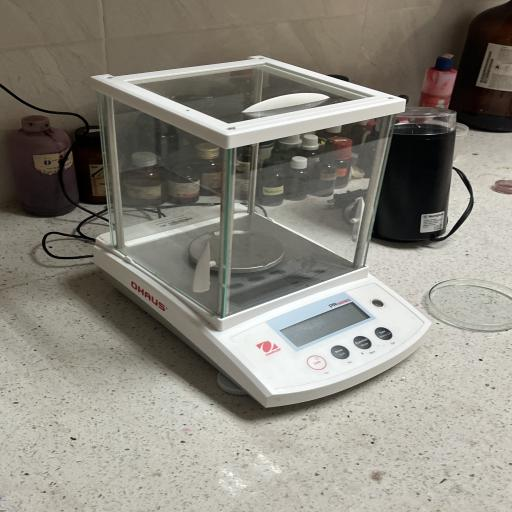Balanza_Analitica_Ohaus: (79, 48, 446, 428)
